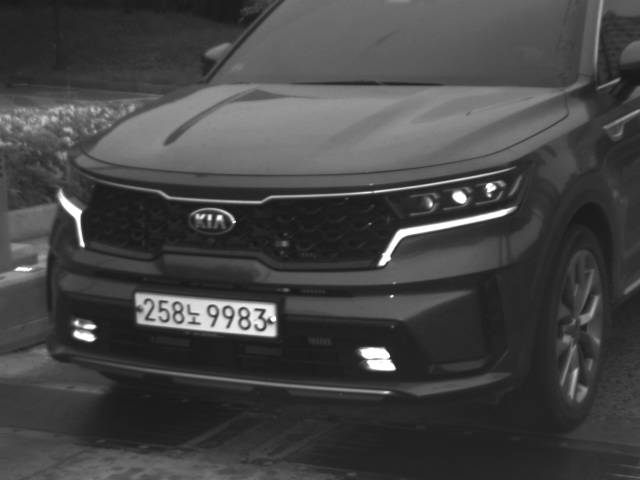car: (43, 1, 639, 432)
plate: (132, 291, 281, 339)
